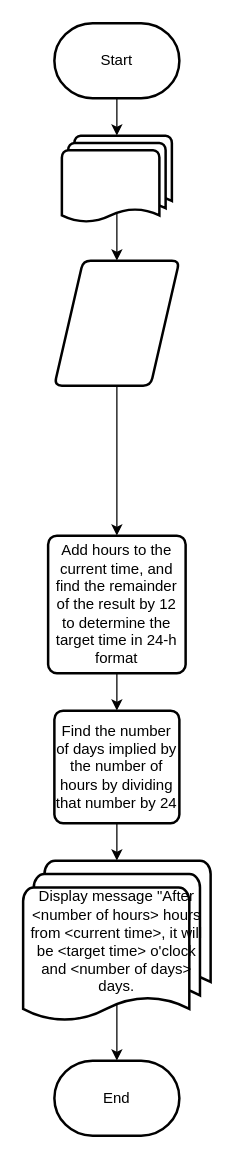
Some shapes in this 233 by 1158 pixel diagram are drawn without their labels. Here are the shapes that lost their labels. From the top down, the centre of each, then its label:
At pixel 116 179: "Display program instructions".
At pixel 116 322: "Ask user for current time and hours from now to the target time".
